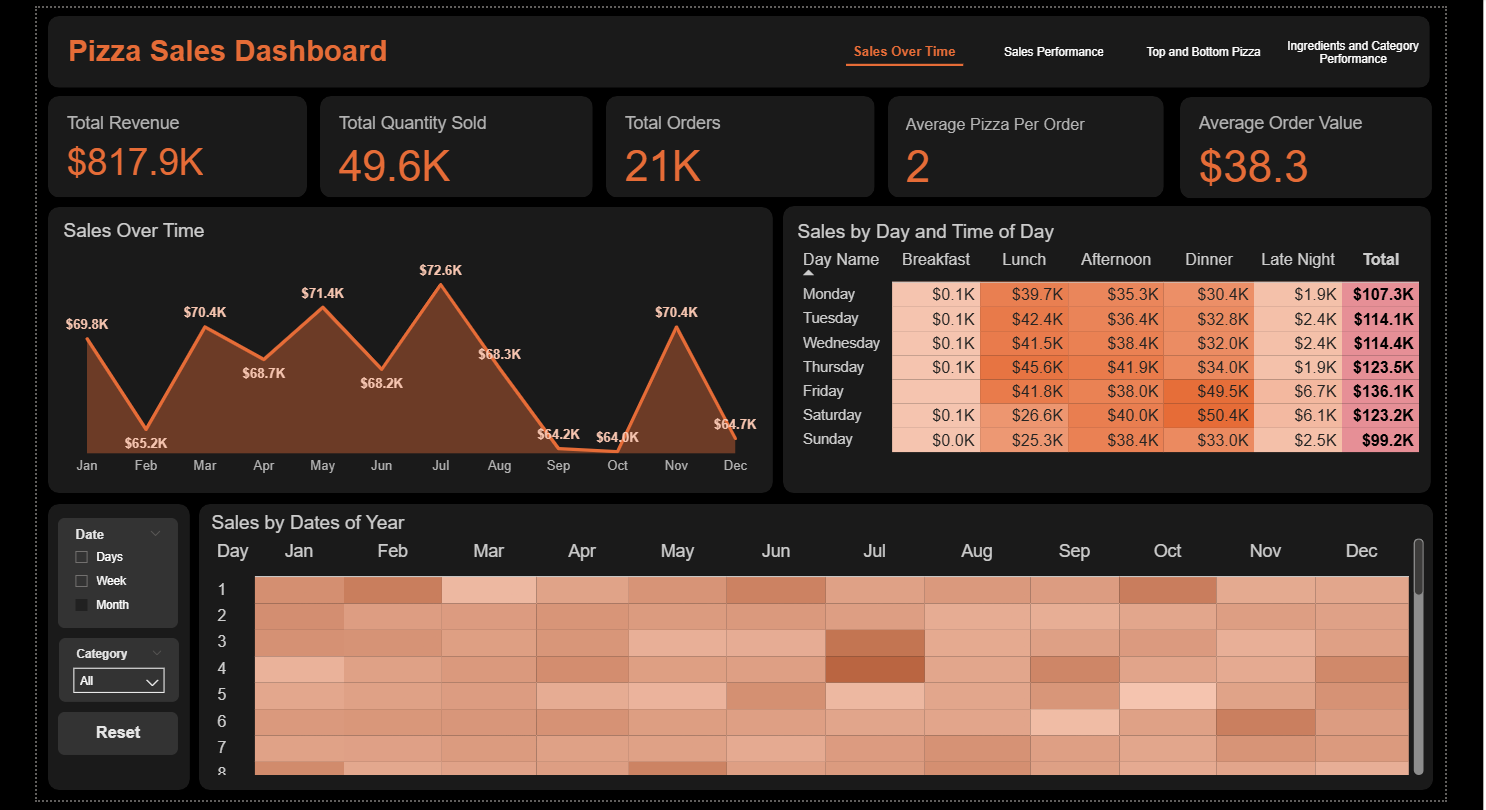

The dashboard page shown, as its layout file describes it:
{"tool":"powerbi","page":{"name":"Sales Over Time","canvas":[1280,720],"ordinal":0},"visuals":[{"type":"shape","box":[146.6,179.8,1124.6,261.9],"z":0},{"type":"shape","box":[10.7,449.4,617.6,262.6],"z":1000},{"type":"shape","box":[9.7,179.9,129.4,261.6],"z":2000},{"type":"shape","box":[0,0,1279.7,72.5],"z":3000},{"type":"shape","box":[9.9,79.7,235.5,92.2],"z":4000},{"type":"shape","box":[257,79.7,248.1,92.2],"z":5000},{"type":"shape","box":[517.6,79.7,244.5,92.2],"z":6000},{"type":"shape","box":[773.7,79.7,250.7,92.2],"z":7000},{"type":"shape","box":[1038.8,80.6,229.3,92.2],"z":8000},{"type":"cardVisual","fields":{"Data":["Sheet1.Total Revenue"]},"box":[9.9,78.8,189.9,95.8],"z":9000},{"type":"cardVisual","fields":{"Data":["Sheet1.Total Quantity Sold"]},"box":[257,82.4,252.5,92.2],"z":10000},{"type":"cardVisual","fields":{"Data":["Sheet1.Average Order Value"]},"box":[1031,79.8,237.3,94.3],"z":11000},{"type":"cardVisual","fields":{"Data":["Count(Sheet1.order_id)"]},"box":[513.6,82.7,252.9,98.2],"z":12000},{"type":"cardVisual","title":"Avg Time Per Order","fields":{"Data":["Sheet1.Average Unit Per Order"]},"box":[773.3,80.7,239.3,91.4],"z":13000},{"type":"lineChart","title":"Sales Over Time","fields":{"Category":["DateTable.Date"],"Y":["Sheet1.Total Revenue"]},"box":[154.4,192.5,1108,239.4],"z":14000},{"type":"slicer","fields":{"Values":["Parameter.Parameter"]},"box":[18.5,192.6,108.9,99.2],"z":15000},{"type":"pivotTable","title":"Sales by Day and Time of Day","fields":{"Values":["Sheet1.Total Revenue"],"Columns":["Time Range Table For Order.Time Range"],"Rows":["DateTable.Day Name"]},"box":[18.5,458.1,599.1,247.1],"z":16000},{"type":"shape","box":[640,449.4,631.2,262.6],"z":17000},{"type":"slicer","fields":{"Values":["Sheet1.category"]},"box":[18.5,301.5,108.9,58.4],"z":18000},{"type":"textbox","box":[472.8,15.2,377,43],"z":19000},{"type":"columnChart","title":"Sales by Dates of Year","fields":{"Category":["DateTable.Year","DateTable.Day"],"Y":["Sheet1.Total Revenue"]},"box":[648.8,458.1,613.7,246.1],"z":20000}]}

Visuals, with their boxes on the page's 1280x720 design canvas (x1, y1, x2, y2). These are canvas units, not pixel positions in the 1486x810 screenshot, which may show the page scaled, cropped or inside an application window:
shape: 147/180/1271/442
shape: 11/449/628/712
shape: 10/180/139/442
shape: 0/0/1280/72
shape: 10/80/245/172
shape: 257/80/505/172
shape: 518/80/762/172
shape: 774/80/1024/172
shape: 1039/81/1268/173
cardVisual - Sheet1.Total Revenue: 10/79/200/175
cardVisual - Sheet1.Total Quantity Sold: 257/82/510/175
cardVisual - Sheet1.Average Order Value: 1031/80/1268/174
cardVisual - Count(Sheet1.order_id): 514/83/766/181
"Avg Time Per Order" cardVisual: 773/81/1013/172
"Sales Over Time" lineChart: 154/192/1262/432
slicer - Parameter.Parameter: 18/193/127/292
"Sales by Day and Time of Day" pivotTable: 18/458/618/705
shape: 640/449/1271/712
slicer - Sheet1.category: 18/302/127/360
textbox: 473/15/850/58
"Sales by Dates of Year" columnChart: 649/458/1262/704
